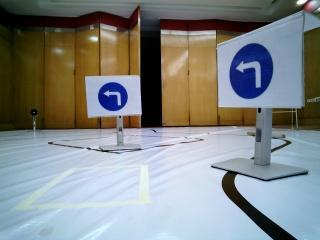left: (86, 76, 142, 116)
right: (217, 40, 300, 106)
